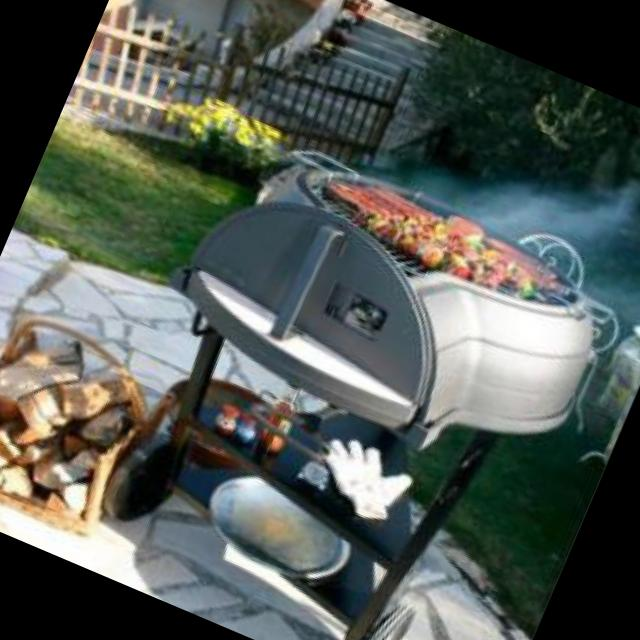smoke: (465, 129, 640, 288)
